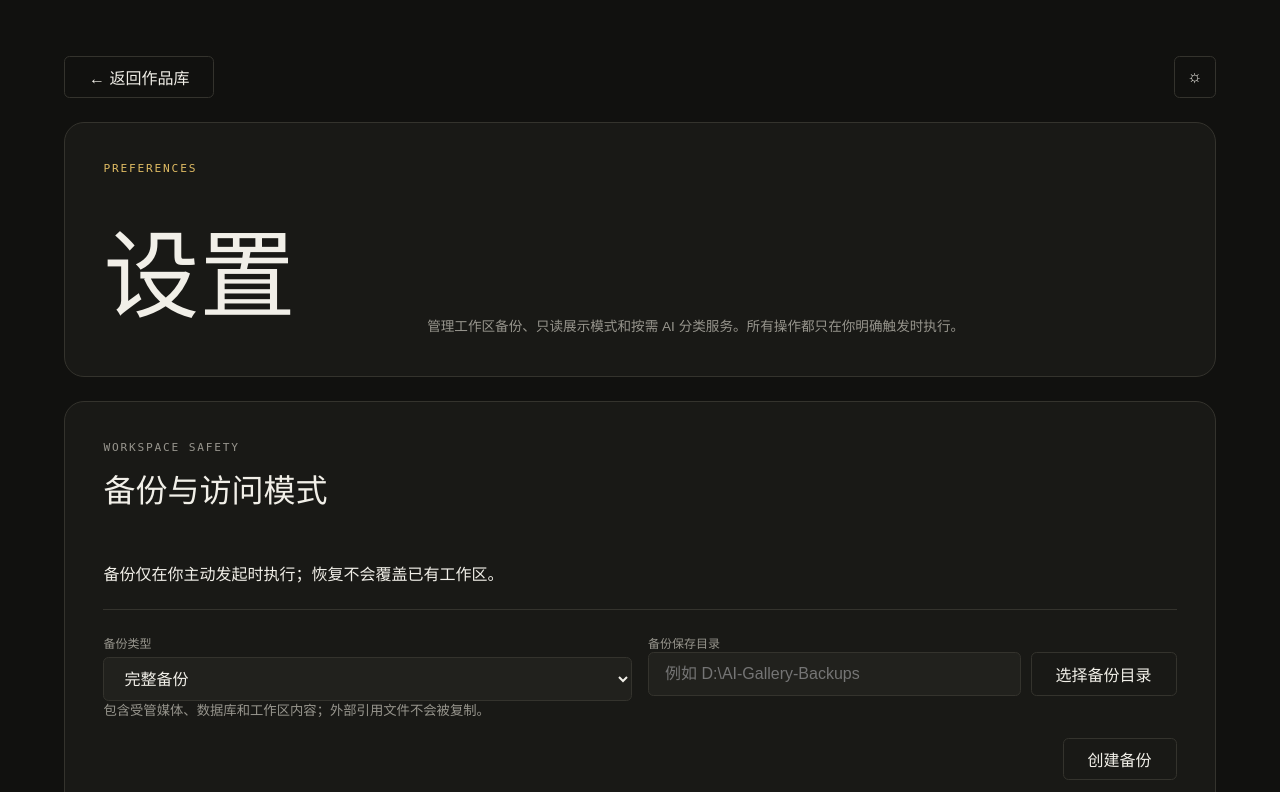
Test: 设置页 › 工作区操作显示本地白名单中的具体错误
Type "D:\\Backups" into the field labelled "备份保存目录" at coordinates (834, 674), box [648,652,1021,696]
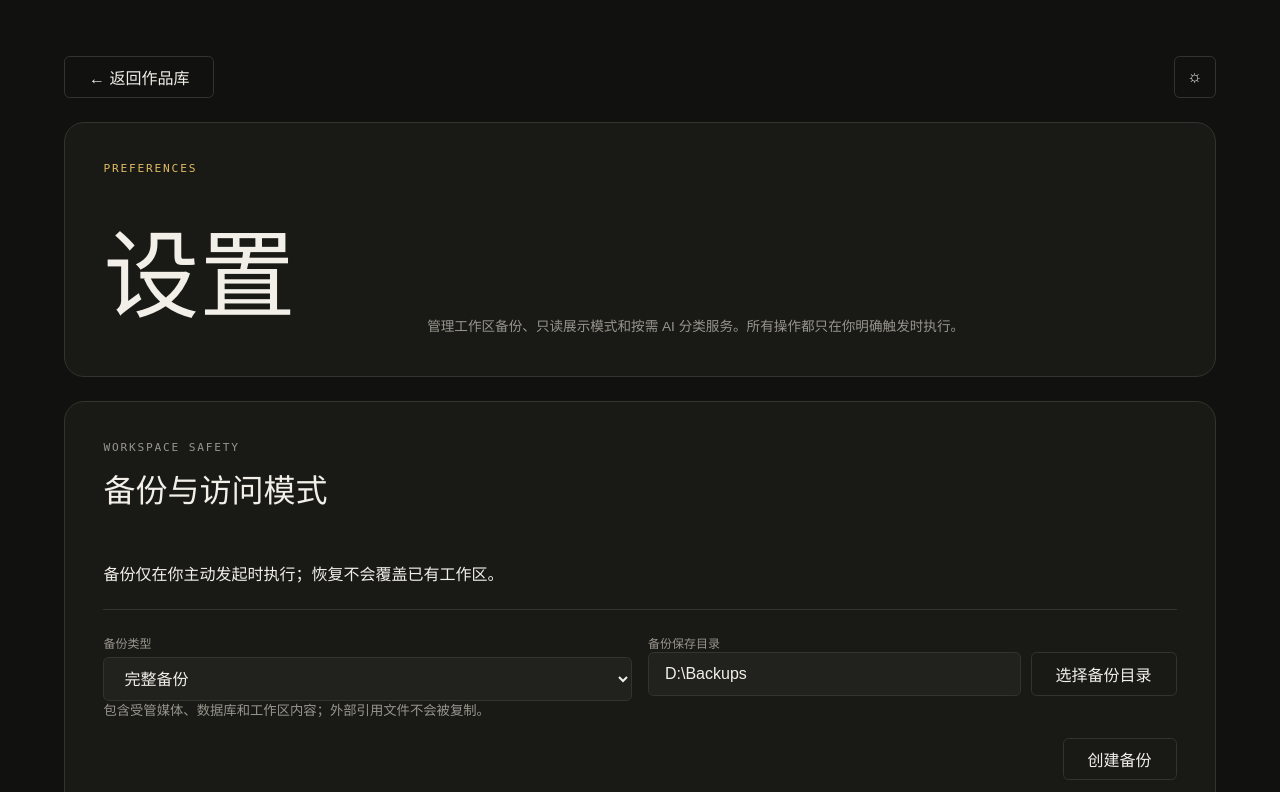
Click the button "创建备份" at coordinates (1120, 759), box [1063,738,1177,780]
(page scrolled)
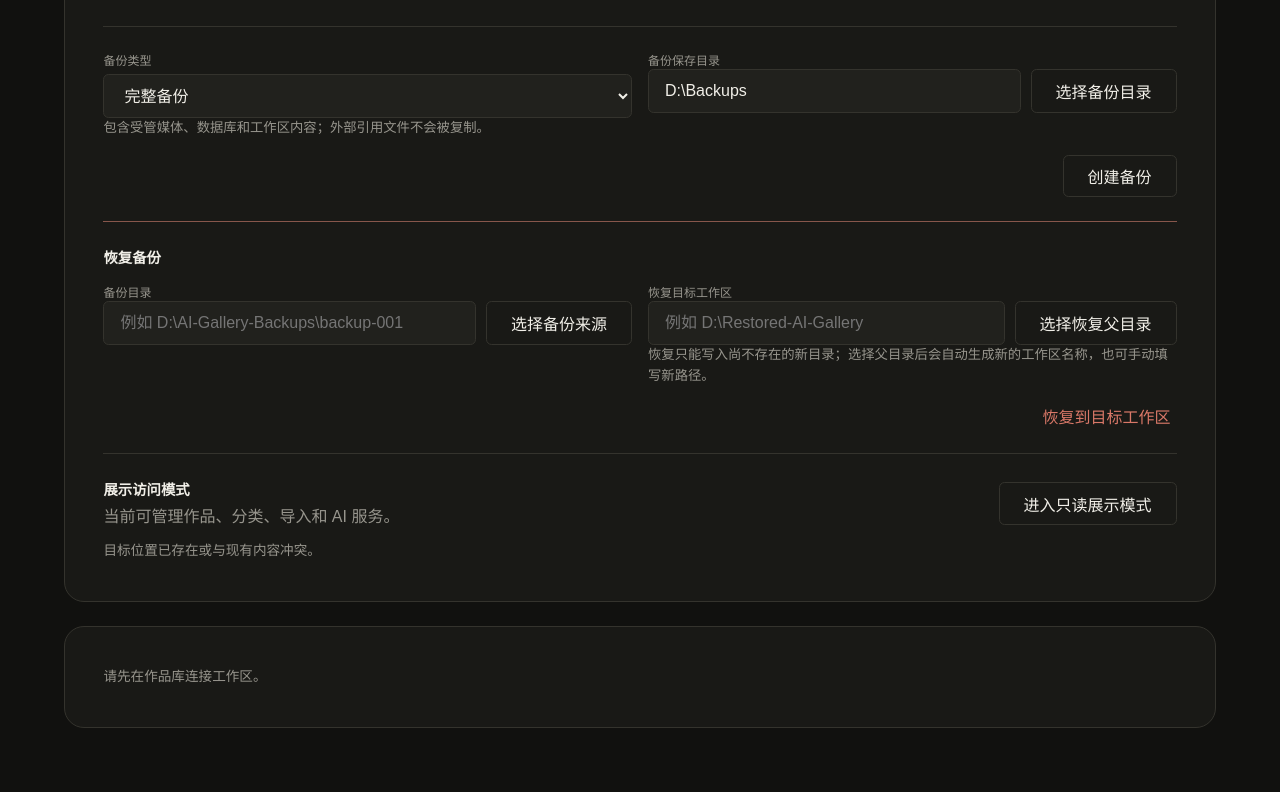
Check: the text "目标位置已存在或与现有内容冲突。" is shown, box [103,544,321,558]
